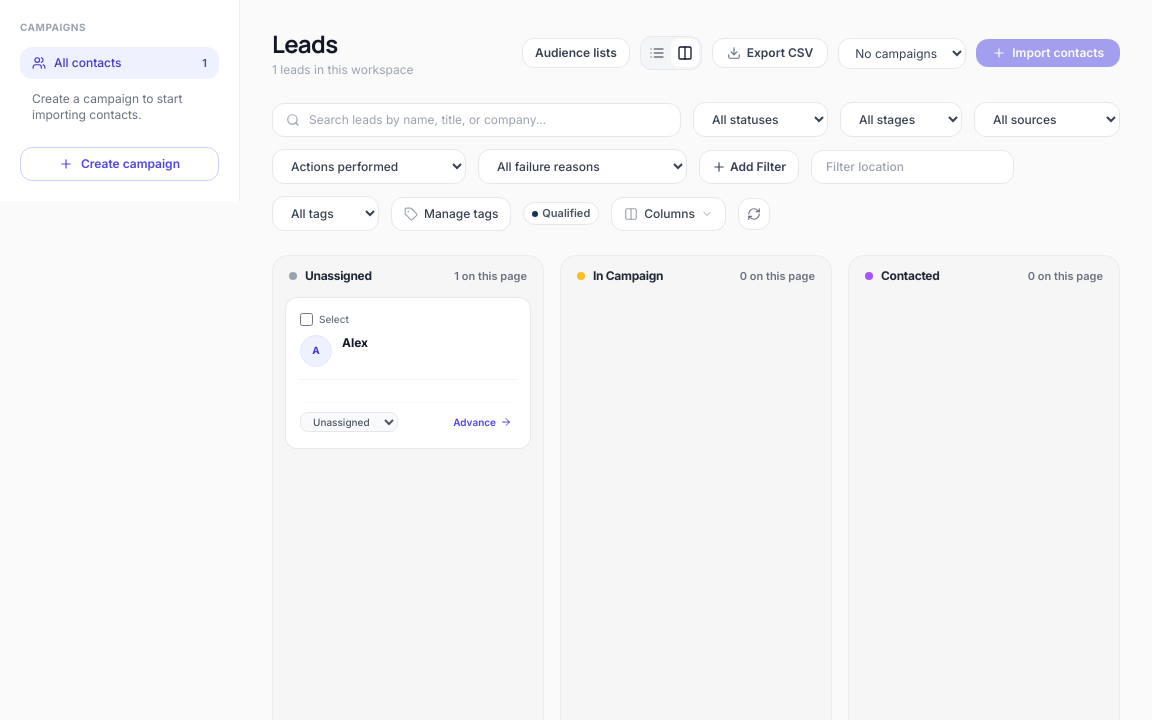
Test case: Canonical lead tags and reviewed draft controls › preserves bulk selection when the server rejects the mutation
Click the checkbox named "Select Alex" at coordinates (306, 319), box [300, 312, 313, 326]
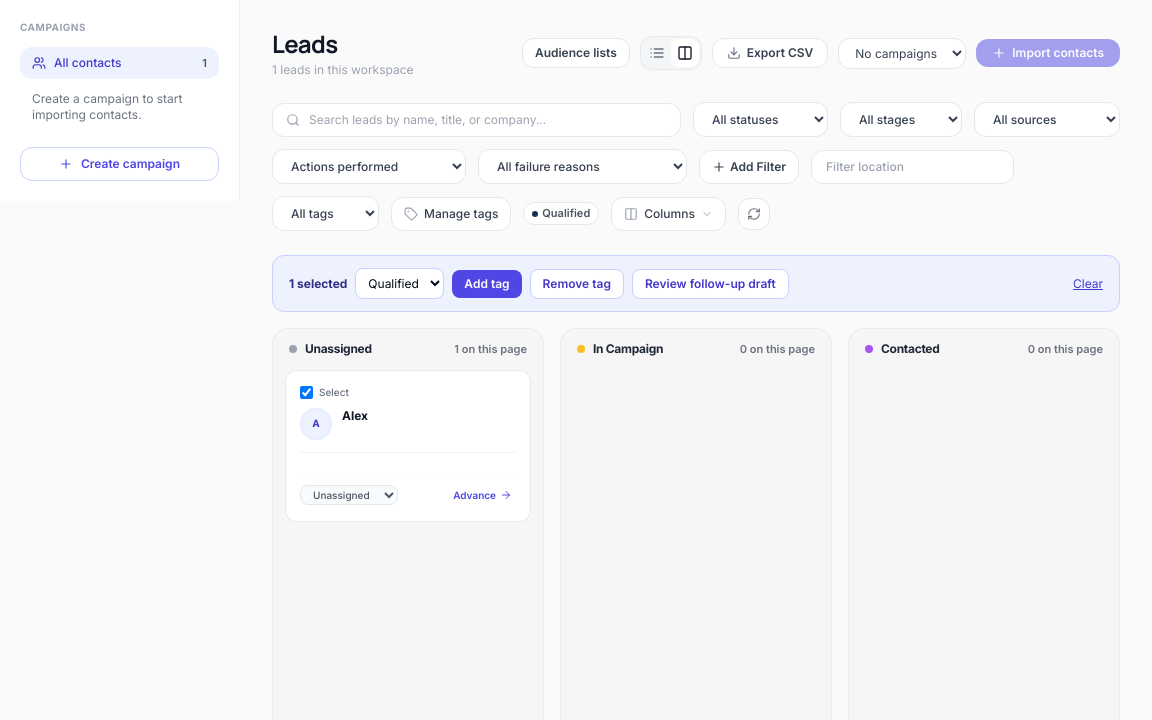
Click the button "Add tag" at coordinates (487, 284), box [452, 270, 522, 298]
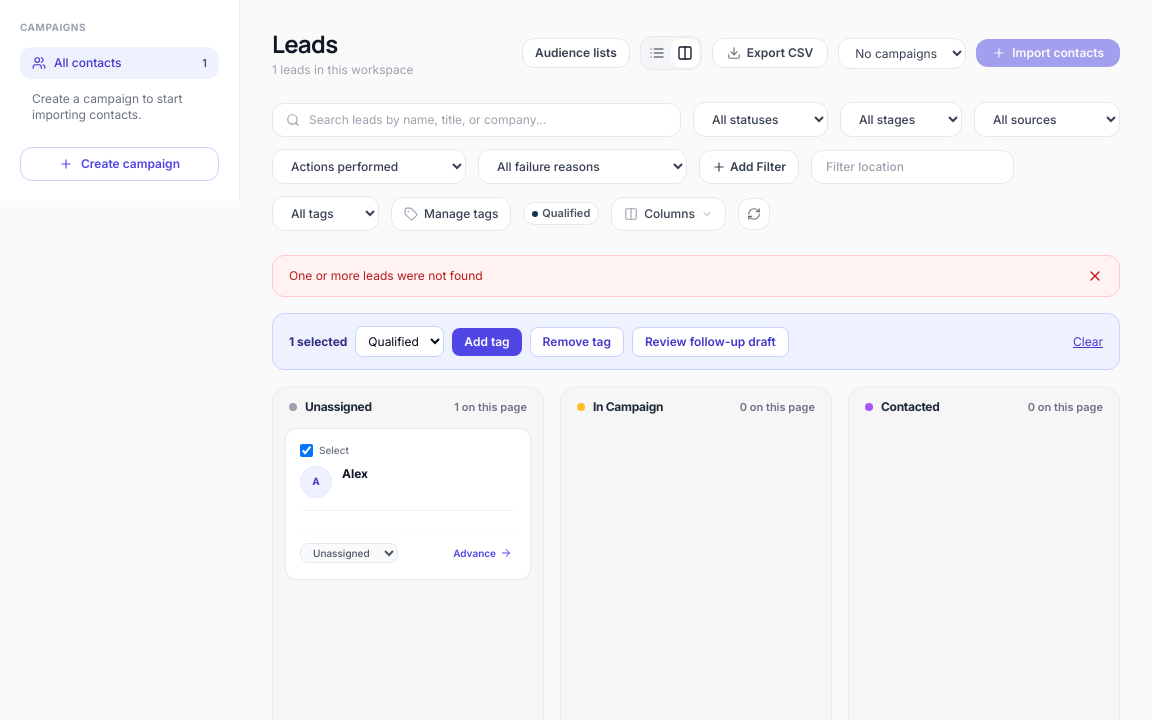
Expected: the text "1 selected" is shown, [289, 334, 347, 350]
Expected: the message "One or more leads were not found" is shown, [272, 255, 1120, 297]
